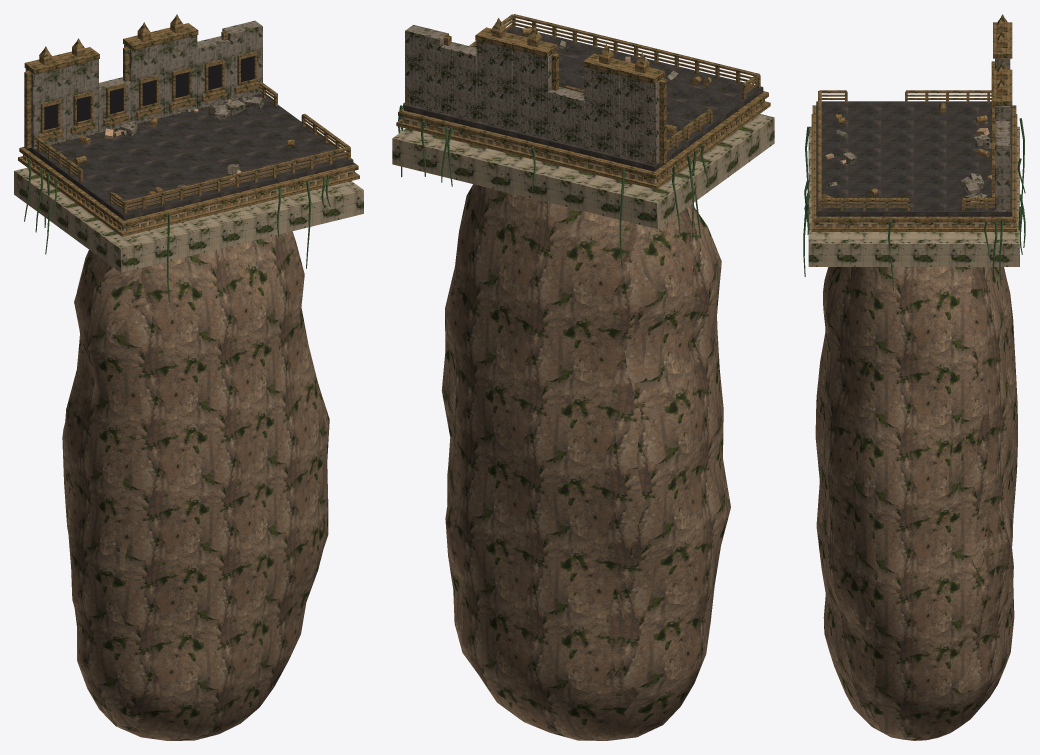
File: Room_CombatA.fbx
3 renders of one model, left to right at view 1: azimuth 30°, elevation 25°; view 2: azimuth 150°, elevation 25°; view 3: azimuth 270°, elevation 25°, orthographic. The views are drawn at different scales.
Parts seen in each view (by area): view 1: CombatA_Rock_LOD0, CombatA_Structure_LOD0; view 2: CombatA_Rock_LOD0, CombatA_Structure_LOD0; view 3: CombatA_Rock_LOD0, CombatA_Structure_LOD0.
Boxes of the visible parts, bbox=[...] form: CombatA_Rock_LOD0: bbox=[62, 231, 329, 740]; CombatA_Structure_LOD0: bbox=[14, 14, 363, 301]; CombatA_Rock_LOD0: bbox=[441, 184, 730, 740]; CombatA_Structure_LOD0: bbox=[392, 14, 774, 266]; CombatA_Rock_LOD0: bbox=[815, 267, 1017, 740]; CombatA_Structure_LOD0: bbox=[803, 14, 1025, 290].
Size of what is drawn, in the model's own units: 26.74 by 67.64 by 20.42.
